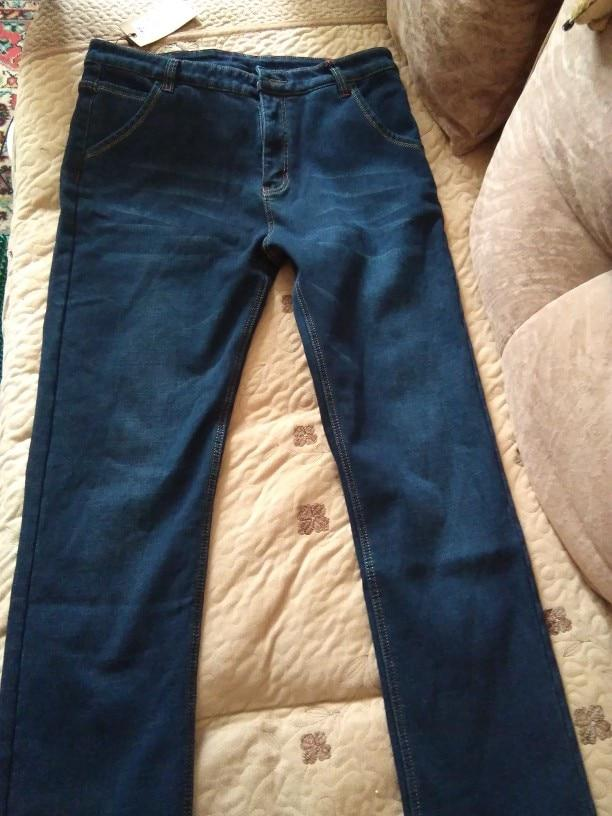jeans: (17, 41, 555, 816)
